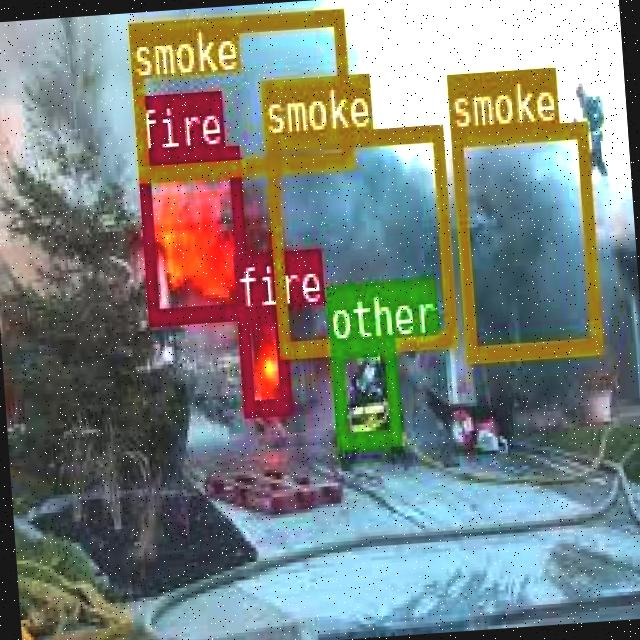fire: (136, 144, 247, 322), (236, 306, 288, 412)
smoke: (263, 122, 456, 355), (126, 5, 351, 178), (448, 120, 600, 361)
